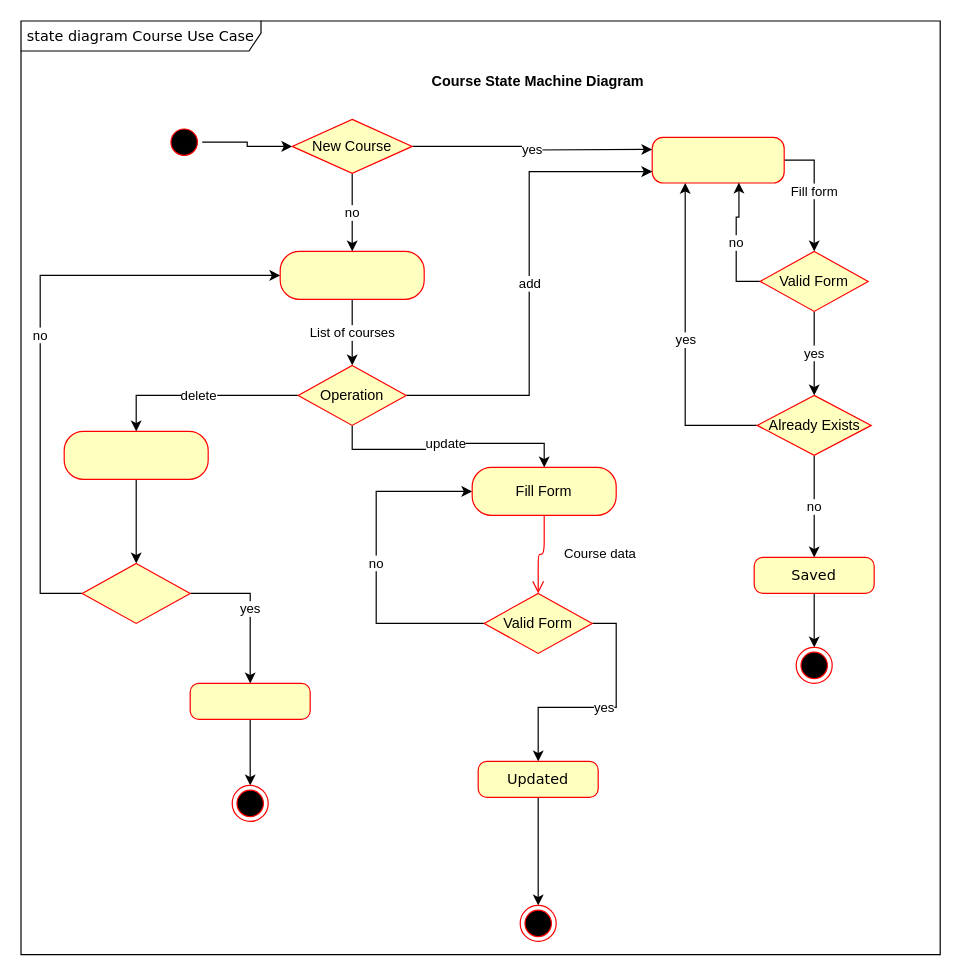
The diagram is 961 pixels wide and 976 high, and some of its shapes have lost their labels. The shapes that lost their labels are listed below. From the top down, each one's centre as x and y in pixels, then its label:
At (x=717, y=159): "New".
At (x=351, y=274): "Load Record".
At (x=135, y=454): "Select record".
At (x=135, y=592): "Confirm deletion".
At (x=249, y=700): "Disabled".
